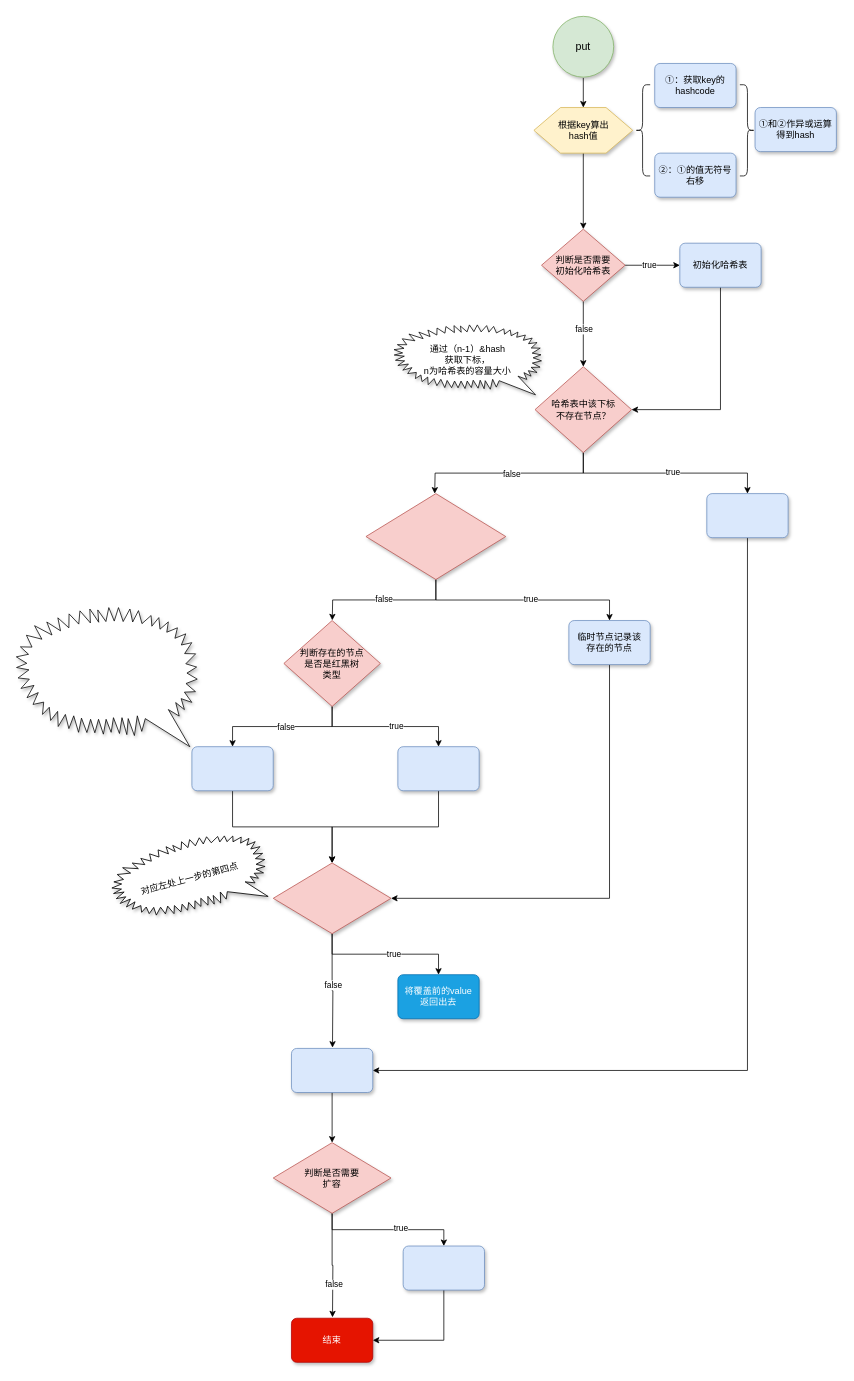
Some shapes in this 854 by 1381 pixel diagram are drawn without their labels. Each missing label, with the centre of its shape:
"1. 从单链表首节点的next节点 开始遍历 2. 在尾处插入新节点 3. 当链表长度达到8转红黑树， 跳出循环 4. 遍历过程key相同则覆盖， 跳出循环" belongs at pixel 107 678.
"以红黑树的方式 插入新节点" belongs at pixel 439 769.
"判断新节点与 存在的节点（首节点） 的hash和key 是否同时相等？" belongs at pixel 436 537.
"判断链表中是否 有重复的key" belongs at pixel 332 899.
"扩容逻辑" belongs at pixel 444 1268.
"新建一个节点 放到哈希表的 对应索引位上" belongs at pixel 748 516.
"更新modCount值" belongs at pixel 332 1071.
"遍历当前节点链表 以普通单链表的 方式插入" belongs at pixel 233 769.
